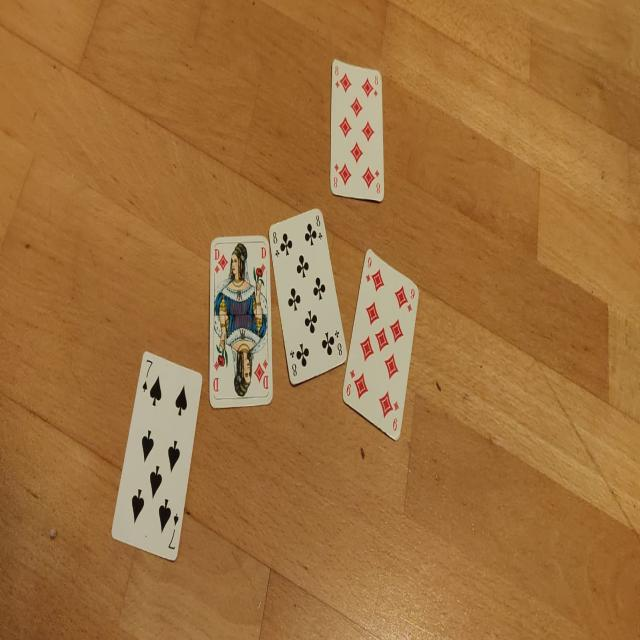Club: (296, 343, 309, 367), (288, 288, 301, 311), (280, 233, 292, 256), (305, 223, 317, 246), (296, 255, 308, 278), (314, 277, 326, 300), (305, 310, 317, 333), (322, 332, 334, 355)
Diamond: (378, 391, 393, 419), (384, 353, 398, 380), (354, 373, 368, 399), (375, 327, 389, 352), (360, 336, 374, 361), (395, 285, 408, 309), (366, 301, 379, 325), (390, 318, 403, 342), (362, 166, 375, 189), (339, 116, 352, 138), (339, 163, 351, 186), (350, 142, 363, 163), (372, 269, 384, 291), (339, 73, 352, 93), (351, 97, 363, 118), (362, 121, 374, 142), (362, 78, 373, 98), (254, 362, 264, 383), (218, 253, 228, 270)
Spade: (132, 489, 144, 524), (159, 499, 171, 534), (150, 466, 162, 500), (142, 430, 154, 463), (168, 441, 180, 473), (150, 375, 161, 407), (176, 385, 187, 416)
